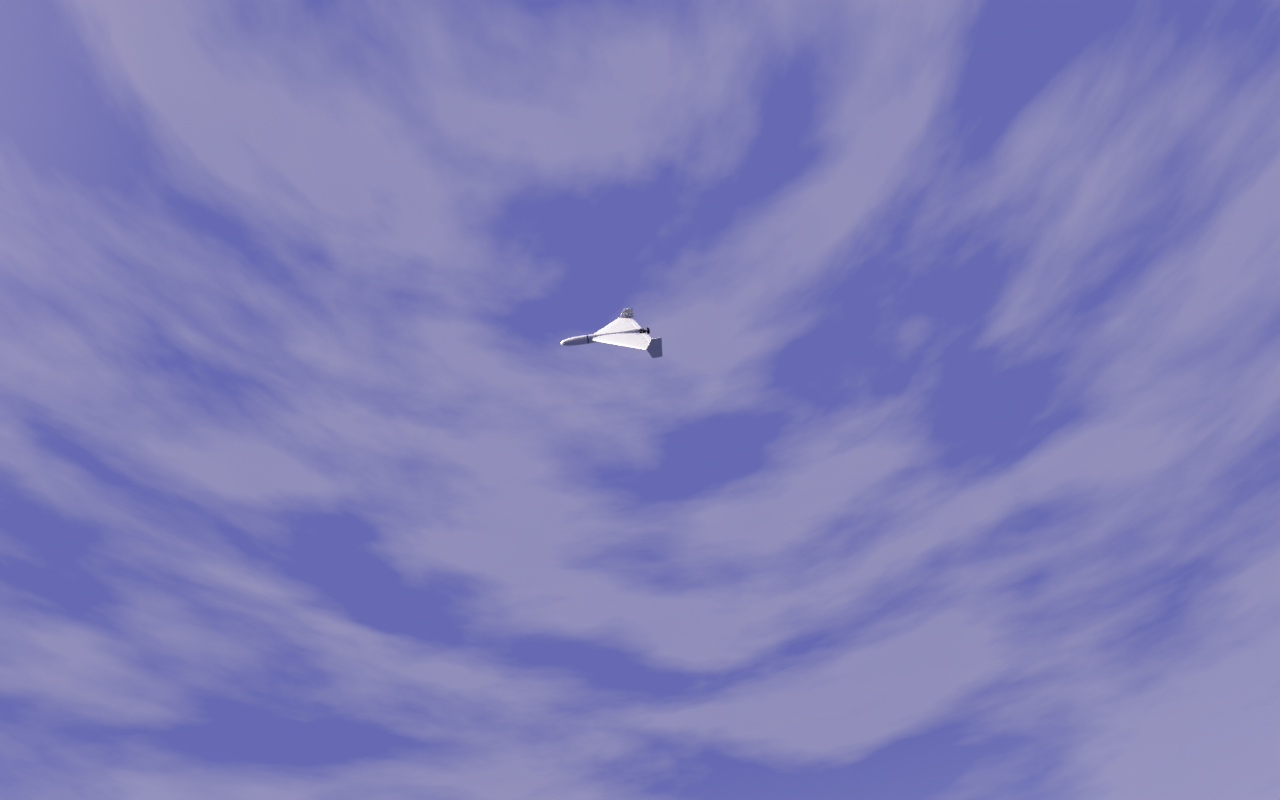shahed: (561, 308, 665, 360)
